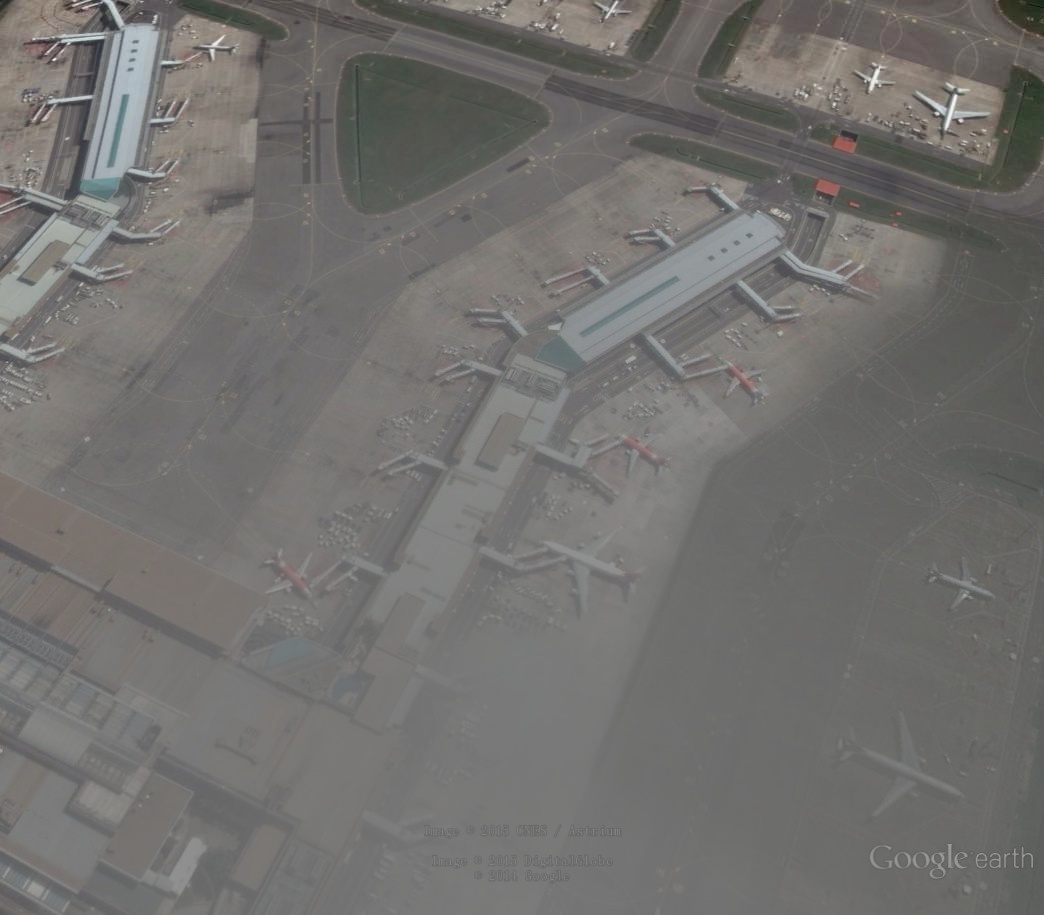aircraft: (832, 708, 966, 823), (540, 529, 651, 622), (910, 78, 996, 138), (925, 555, 1000, 616), (258, 544, 318, 604), (615, 429, 678, 481), (721, 357, 768, 411), (189, 31, 243, 67), (852, 61, 898, 100)
